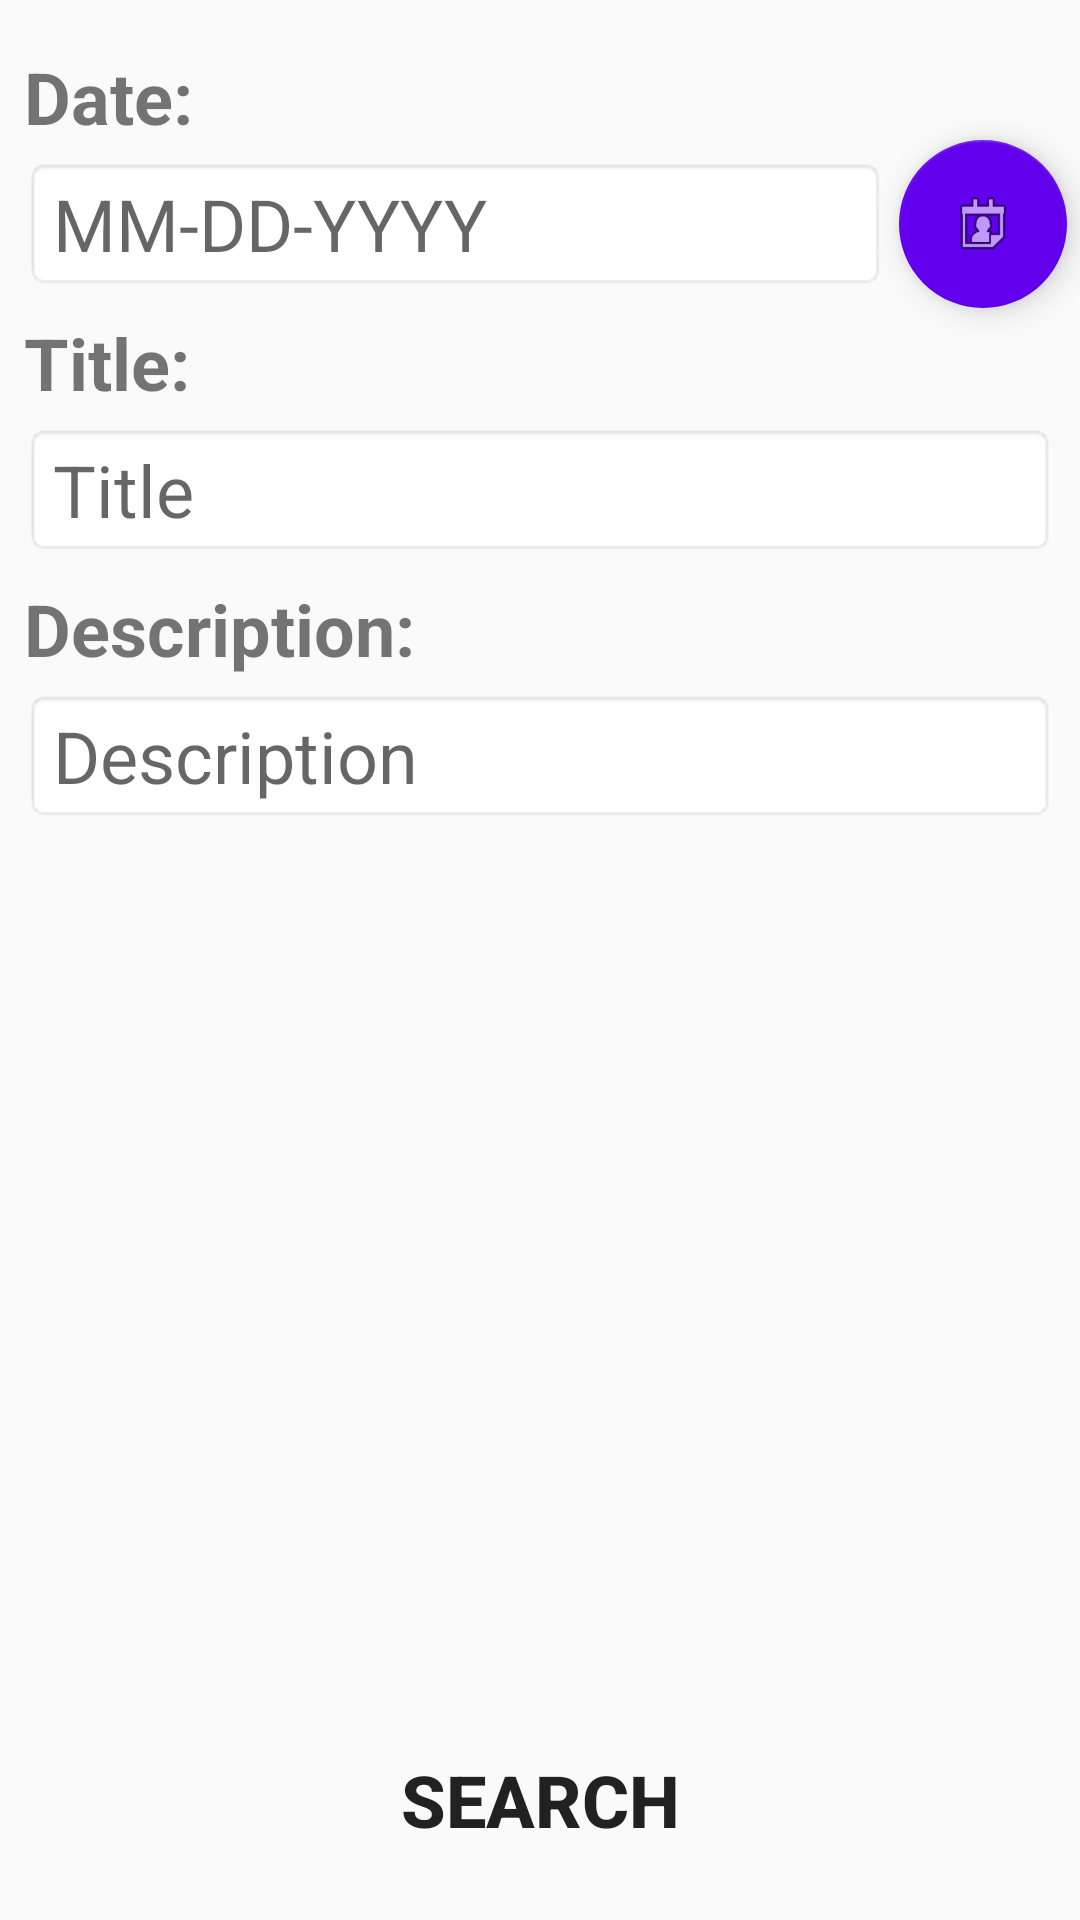

Icon click points for this 1080px×1920px phone screenshot, format point (x, y):
calendar: point (983, 224)
